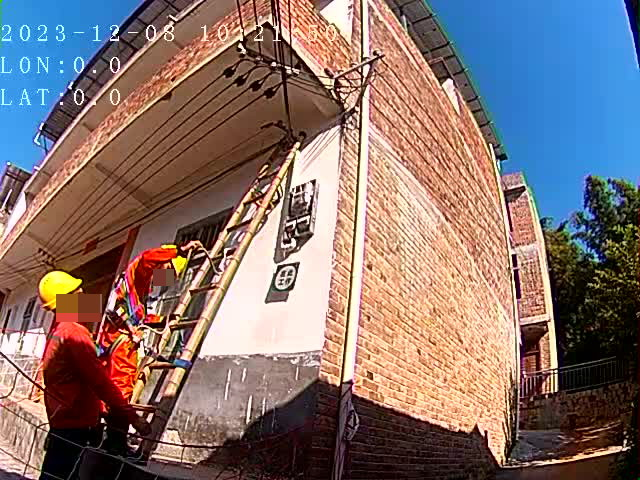halt: (39, 270, 90, 315), (160, 242, 183, 279)
hand: (183, 238, 203, 252), (136, 418, 153, 433)
inear: (61, 295, 82, 311)
person: (30, 268, 125, 480)
safebelt: (102, 248, 194, 373)
worksign: (277, 264, 297, 290)
ydownsuit: (100, 316, 139, 398), (40, 433, 84, 480)
yupsuit: (37, 316, 139, 428), (102, 241, 157, 338)
